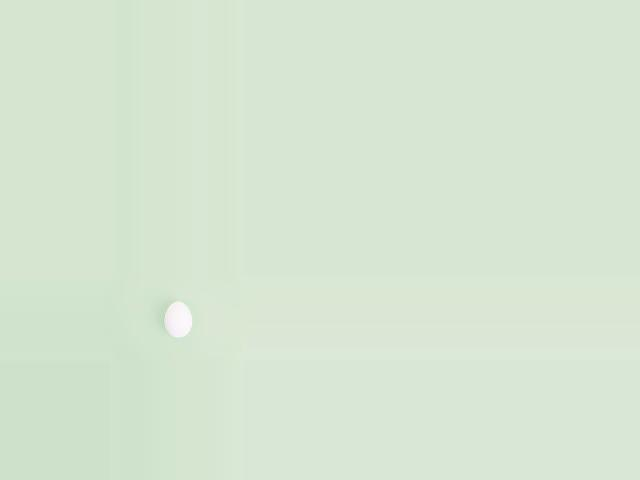egg: (164, 301, 192, 338)
